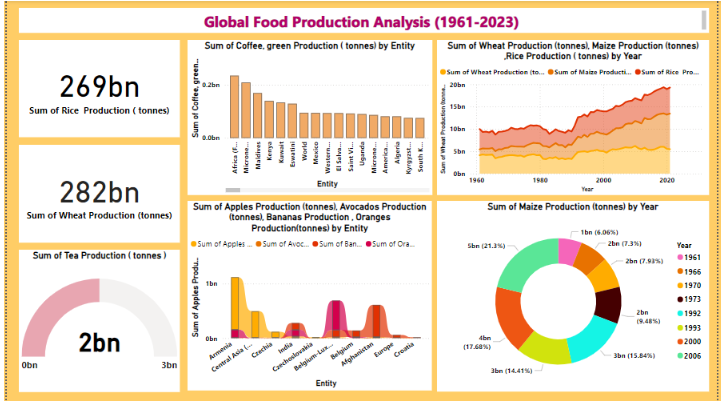

Layout of this report page (visuals, bound fields, positions):
{"tool":"powerbi","page":{"name":"Page 1","canvas":[1280,720],"ordinal":0},"visuals":[{"type":"cardVisual","fields":{"Data":["Sum(world food production.Rice  Production ( tonnes))"]},"box":[10,111.4,280,194.3],"z":0},{"type":"cardVisual","fields":{"Data":["Sum(world food production.Wheat Production (tonnes))"]},"box":[10,318.6,280,214.3],"z":1000},{"type":"gauge","fields":{"Y":["Sum(world food production.Tea  Production ( tonnes ))"]},"box":[10,560,280,150],"z":2000},{"type":"clusteredColumnChart","fields":{"Category":["world food production.Entity"],"Y":["Sum(world food production.Coffee, green Production ( tonnes))"]},"box":[300,111.4,502.9,294.3],"z":3000},{"type":"ribbonChart","fields":{"Category":["world food production.Entity"],"Y":["Sum(world food production.Apples Production (tonnes))","Sum(world food production.Avocados Production (tonnes))","Sum(world food production.Bananas  Production ( tonnes))","Sum(world food production.Oranges  Production (tonnes))"]},"box":[300,430,502.9,280],"z":4000},{"type":"donutChart","fields":{"Y":["Sum(world food production.Maize Production (tonnes))"],"Category":["world food production.Year"]},"box":[812.9,425.7,457.1,280],"z":5000},{"type":"areaChart","fields":{"Category":["world food production.Year"],"Y":["Sum(world food production.Maize Production (tonnes))","Sum(world food production.Wheat Production (tonnes))","Sum(world food production.Rice  Production ( tonnes))"]},"box":[812.9,111.4,457.1,294.3],"z":6000},{"type":"textbox","box":[130,10,1032.9,81.4],"z":7000}]}

Visuals, with their boxes in screenshot pixels (x1, y1, x2, y2), scaled from the page's 1280x720 canvas onto the 727x408 screenshot:
cardVisual - Sum(world food production.Rice  Production ( tonnes)): crop(6, 63, 165, 173)
cardVisual - Sum(world food production.Wheat Production (tonnes)): crop(6, 181, 165, 302)
gauge - Sum(world food production.Tea  Production ( tonnes )): crop(6, 317, 165, 402)
clusteredColumnChart - world food production.Entity x Sum(world food production.Coffee, green Production ( tonnes)): crop(170, 63, 456, 230)
ribbonChart - world food production.Entity x Sum(world food production.Apples Production (tonnes)): crop(170, 244, 456, 402)
donutChart - Sum(world food production.Maize Production (tonnes)) x world food production.Year: crop(462, 241, 721, 400)
areaChart - world food production.Year x Sum(world food production.Maize Production (tonnes)): crop(462, 63, 721, 230)
textbox: crop(74, 6, 660, 52)
